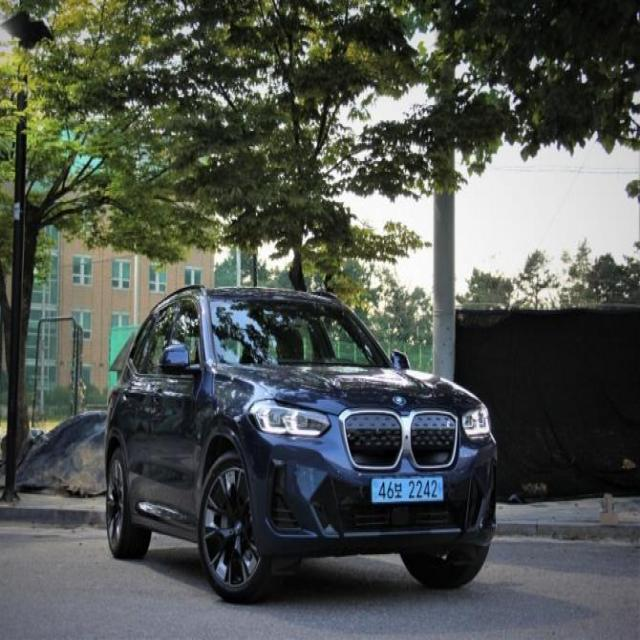EV_plate: (372, 475, 444, 508)
car: (101, 279, 497, 604)
